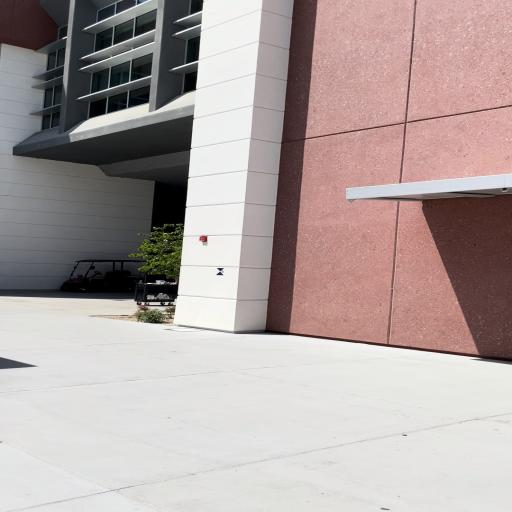target6: (215, 268, 225, 276)
